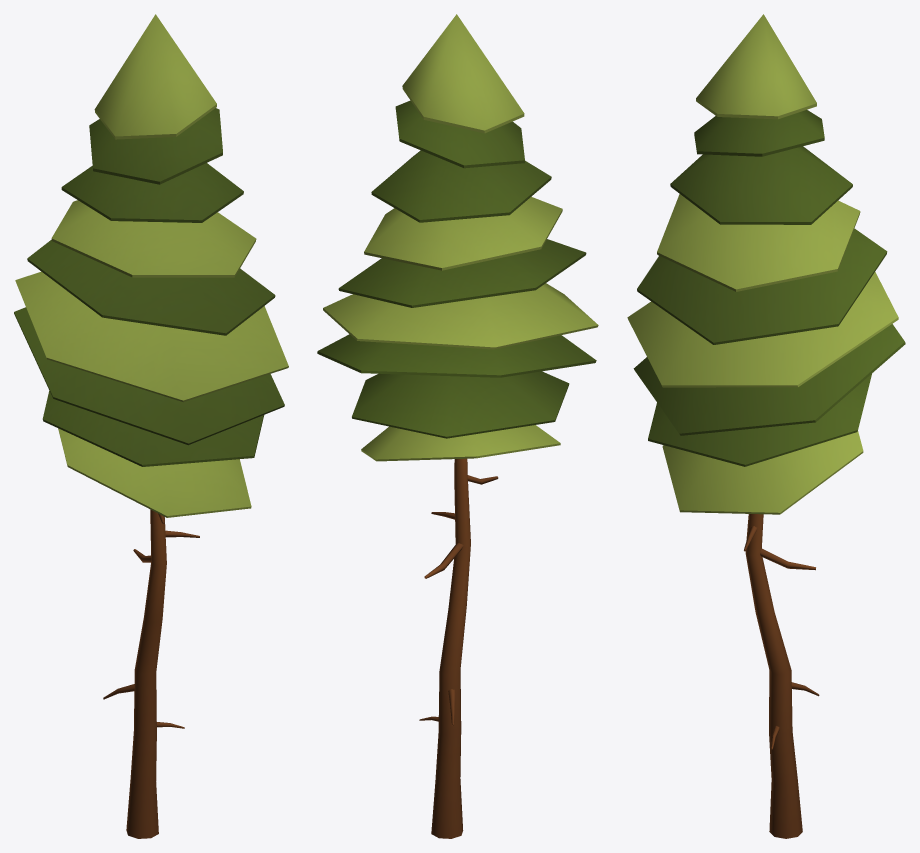
File: TreePineLP_002.fbx
3 renders of one model, left to right at view 1: azimuth 30°, elevation 25°; view 2: azimuth 150°, elevation 25°; view 3: azimuth 270°, elevation 25°, orthographic. The views are drawn at different scales.
Parts seen in each view (by area): view 1: TreePineLP_002; view 2: TreePineLP_002; view 3: TreePineLP_002.
Part boxes in pixels (box(x1,y1,x2,y2)): TreePineLP_002: box(14, 14, 288, 838); TreePineLP_002: box(317, 14, 598, 838); TreePineLP_002: box(627, 14, 905, 838).
Size of the model in its own units: 9.83 by 31.53 by 9.71.
